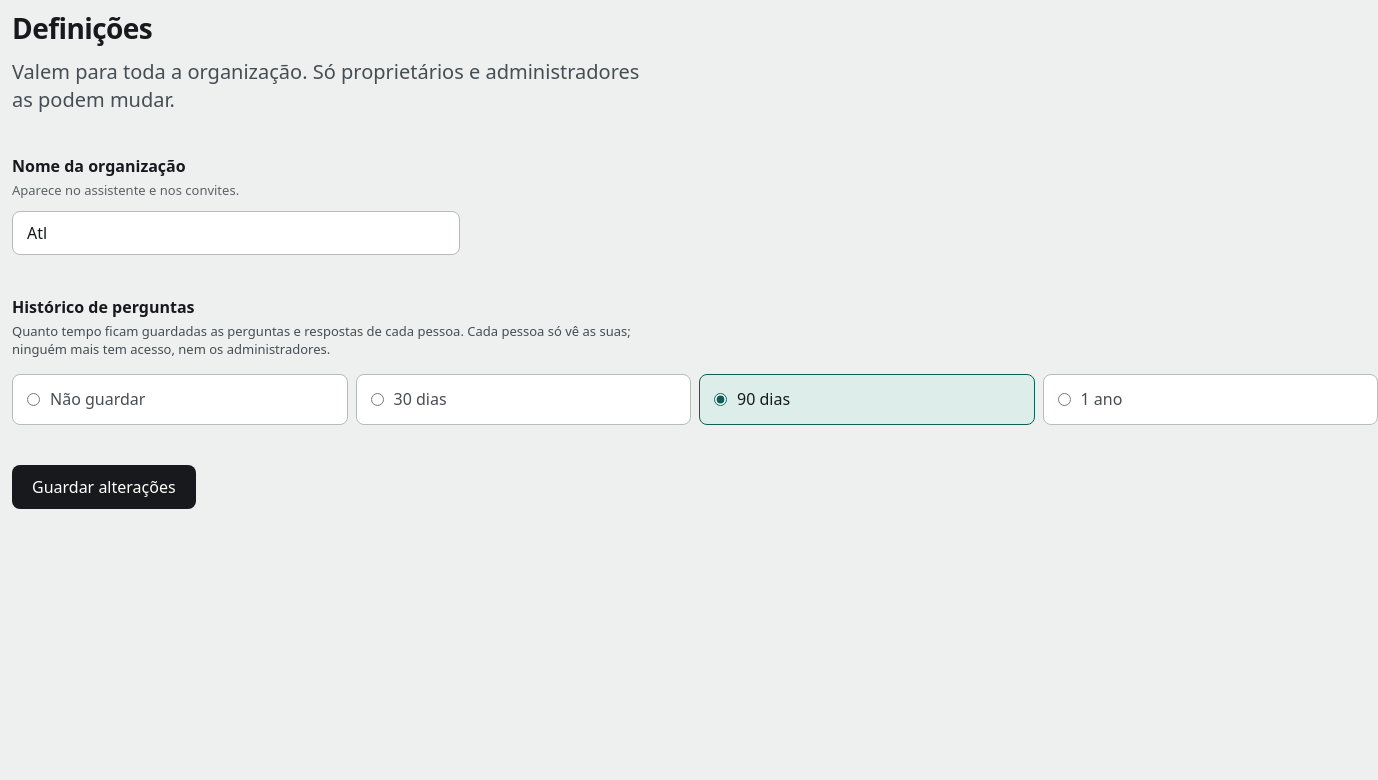
Test case: settings › warns before a shorter period deletes questions
Click the 1st radio button. click: coordinates (34, 400)
box: [27,393,40,406]
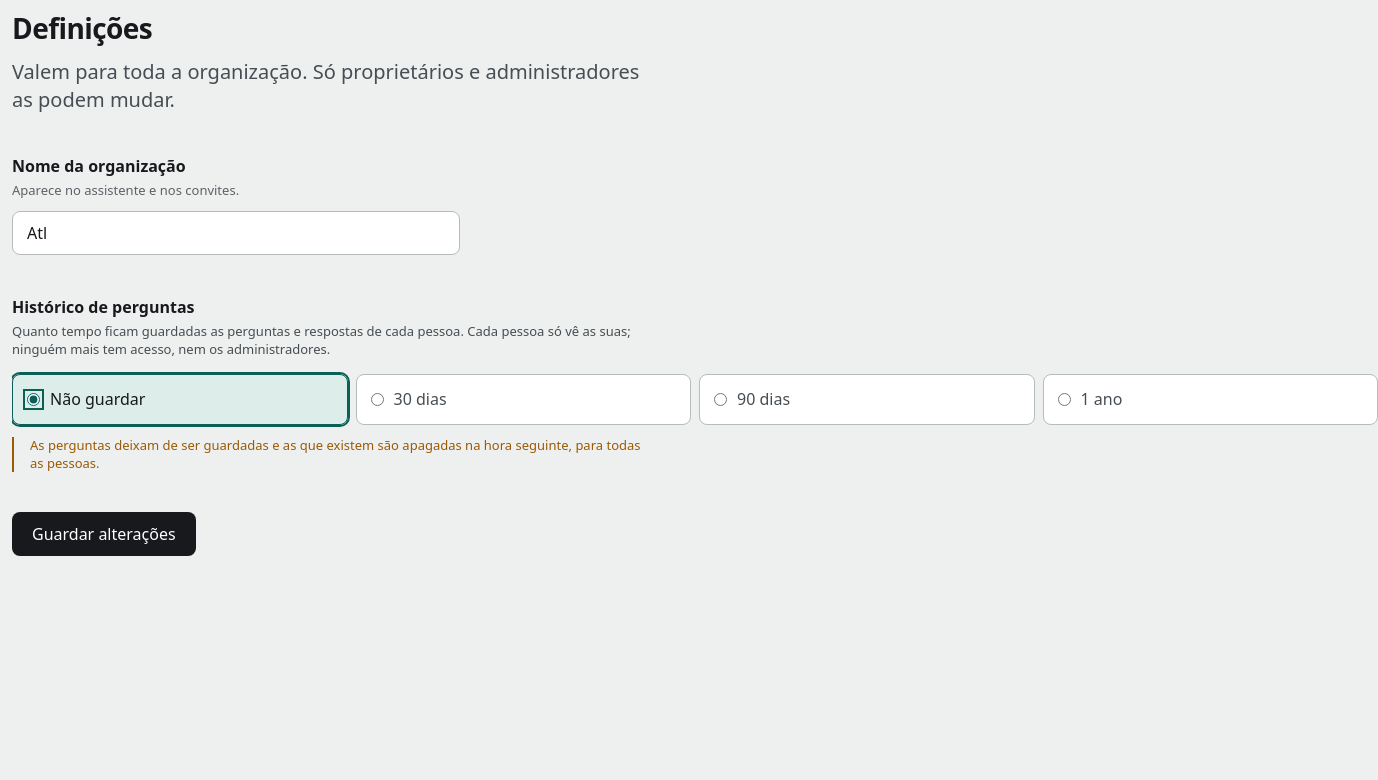
Now the message shows "deixam de ser guardadas", box [30,436,640,472]
